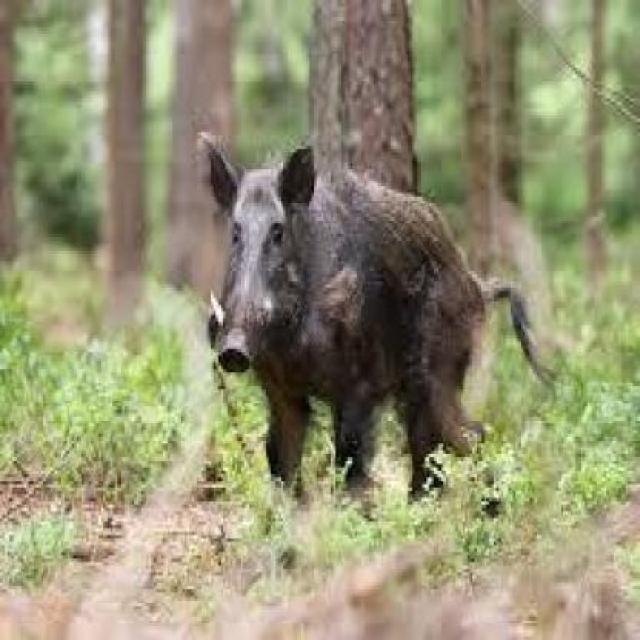wildboar: (200, 132, 566, 510)
